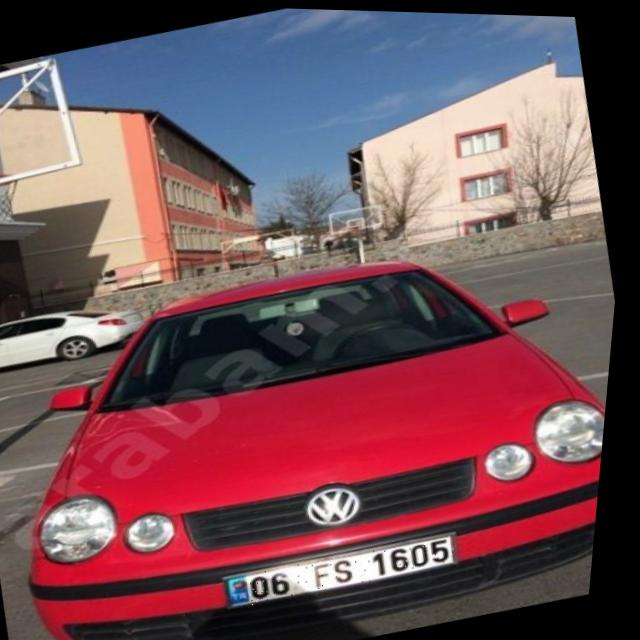license_plate: (233, 525, 469, 613)
